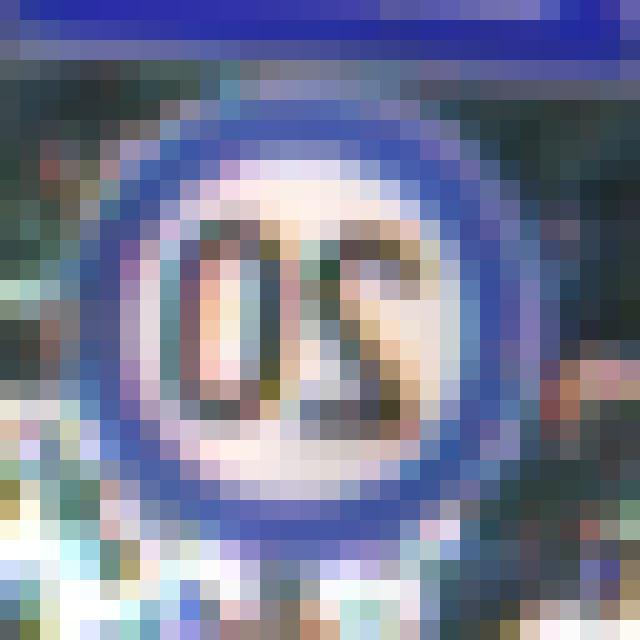SPEED LIMIT 20: (49, 89, 542, 560)
